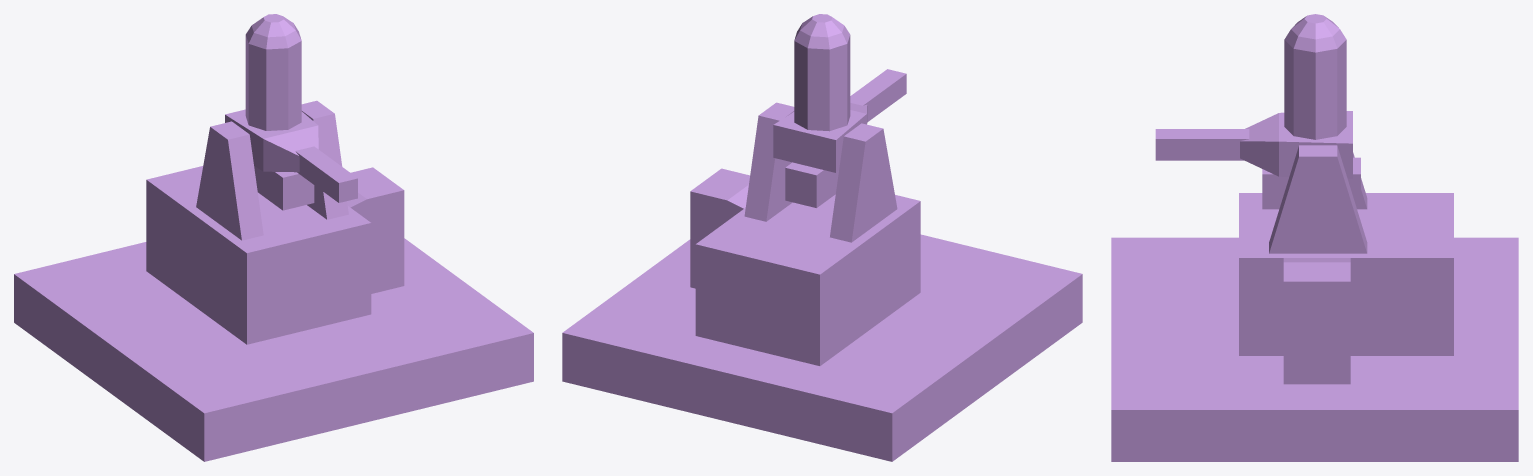
File: stationary-phalanx.glb
3 renders of one model, left to right at view 1: azimuth 30°, elevation 25°; view 2: azimuth 150°, elevation 25°; view 3: azimuth 270°, elevation 25°, orthographic. The views are drawn at different scales.
Parts seen in each view (by area): view 1: CC_PhalanxCIWS_Base, CC_PhalanxCIWS_Retexture, CC_PhalanxCIWS_Frame; view 2: CC_PhalanxCIWS_Base, CC_PhalanxCIWS_Retexture, CC_PhalanxCIWS_Frame; view 3: CC_PhalanxCIWS_Base, CC_PhalanxCIWS_Retexture, CC_PhalanxCIWS_Frame.
Boxes of the visible parts, bbox=[...] form: CC_PhalanxCIWS_Base: bbox=[14, 166, 533, 461]; CC_PhalanxCIWS_Retexture: bbox=[225, 14, 357, 210]; CC_PhalanxCIWS_Frame: bbox=[196, 100, 348, 240]; CC_PhalanxCIWS_Base: bbox=[562, 168, 1082, 461]; CC_PhalanxCIWS_Retexture: bbox=[773, 14, 906, 207]; CC_PhalanxCIWS_Frame: bbox=[744, 102, 897, 242]; CC_PhalanxCIWS_Base: bbox=[1111, 193, 1518, 461]; CC_PhalanxCIWS_Retexture: bbox=[1155, 14, 1360, 209]; CC_PhalanxCIWS_Frame: bbox=[1269, 145, 1367, 253].
Bounding box in the file's own units: 5.99 × 5.8 × 5.99.
